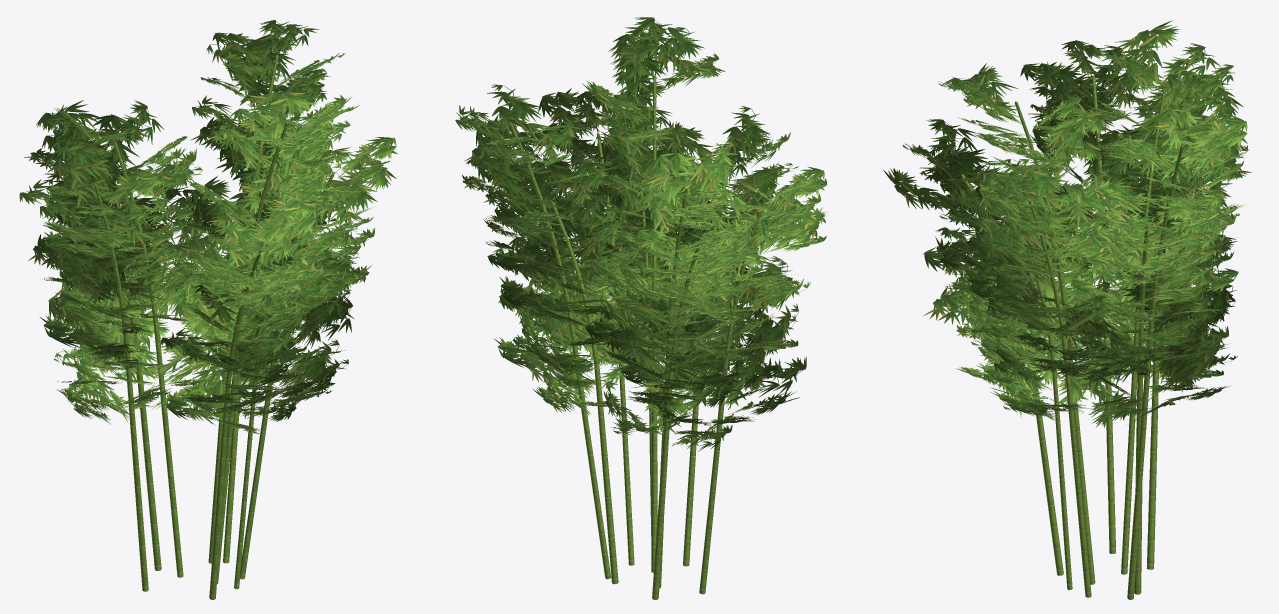
Rendered from Bamboo_B.fbx.
3 views of the same model, side by side, from view 1: azimuth 30°, elevation 25°; view 2: azimuth 150°, elevation 25°; view 3: azimuth 270°, elevation 25° (orthographic). The views are drawn at different scales.
Parts seen in each view (by area): view 1: Bamboo_B; view 2: Bamboo_B; view 3: Bamboo_B.
Part boxes in pixels (x1,y1,x2,y2): Bamboo_B: (19,20,397,599); Bamboo_B: (455,17,827,599); Bamboo_B: (883,20,1251,599).
Bounding box in the file's own units: 6.79 × 8.92 × 5.87.
2 materials, 2 textured.
